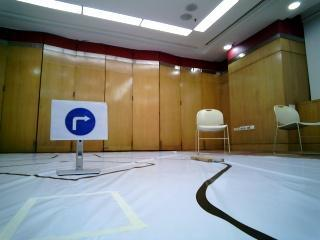right: (54, 97, 113, 145)
